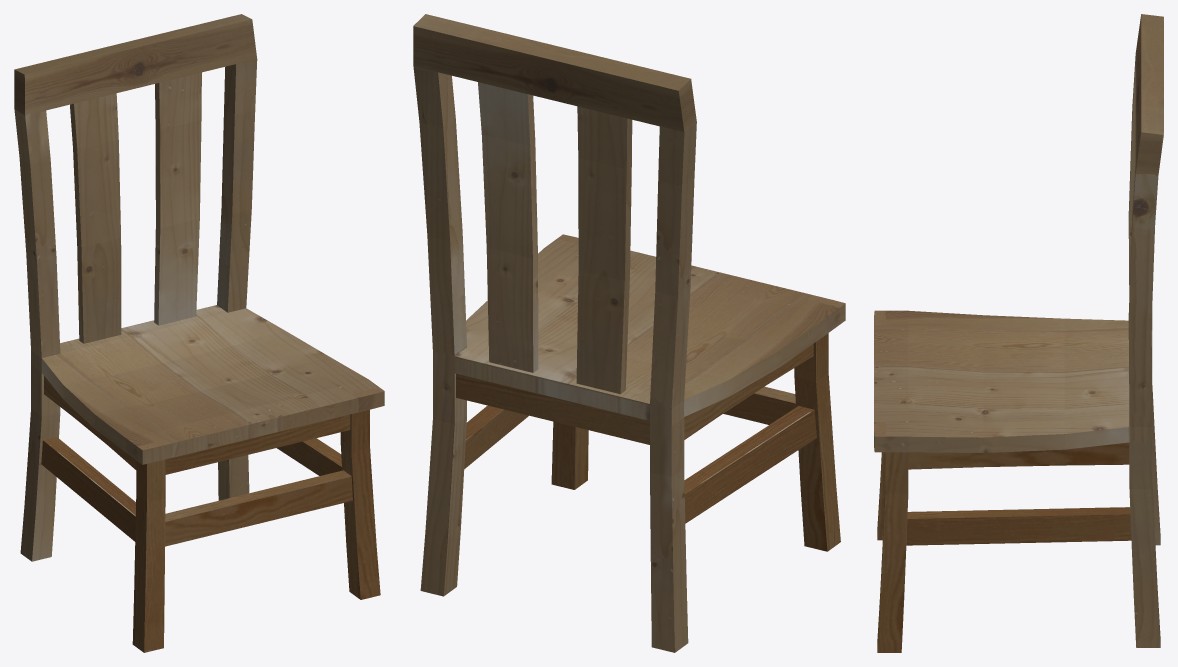
File: silla2.gltf
3 views of the same model, side by side, from view 1: azimuth 30°, elevation 25°; view 2: azimuth 150°, elevation 25°; view 3: azimuth 270°, elevation 25° (orthographic). The views are drawn at different scales.
Visible parts, largest first — view 1: Silla; view 2: Silla; view 3: Silla.
Part boxes in pixels (x1=…): Silla: x1=14, y1=14, x2=384, y2=652; Silla: x1=413, y1=14, x2=845, y2=652; Silla: x1=874, y1=14, x2=1163, y2=652.
Bounding box in the file's own units: 0.5212 × 1 × 0.5067.
1 material, 1 textured.
